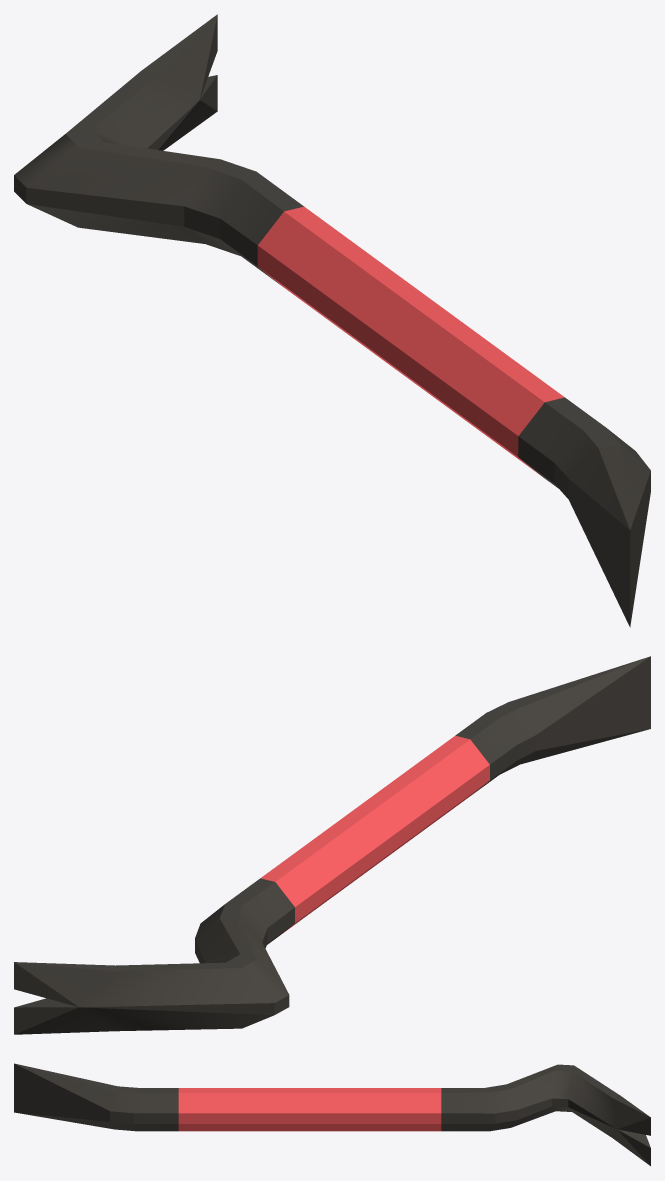
The model's file is crowbar.FBX.
The picture shows the model from 3 angles, top to bottom: view 1: azimuth 30°, elevation 25°; view 2: azimuth 150°, elevation 25°; view 3: azimuth 270°, elevation 25°; orthographic projection. The views are drawn at different scales.
Visible parts, largest first — view 1: crowbar; view 2: crowbar; view 3: crowbar.
Part boxes in pixels (x1=…): crowbar: x1=14, y1=14, x2=650, y2=627; crowbar: x1=14, y1=656, x2=650, y2=1034; crowbar: x1=14, y1=1063, x2=650, y2=1166.
Size of the model in its own units: 0.3912 by 0.13 by 1.53.
1 material, 1 textured.
